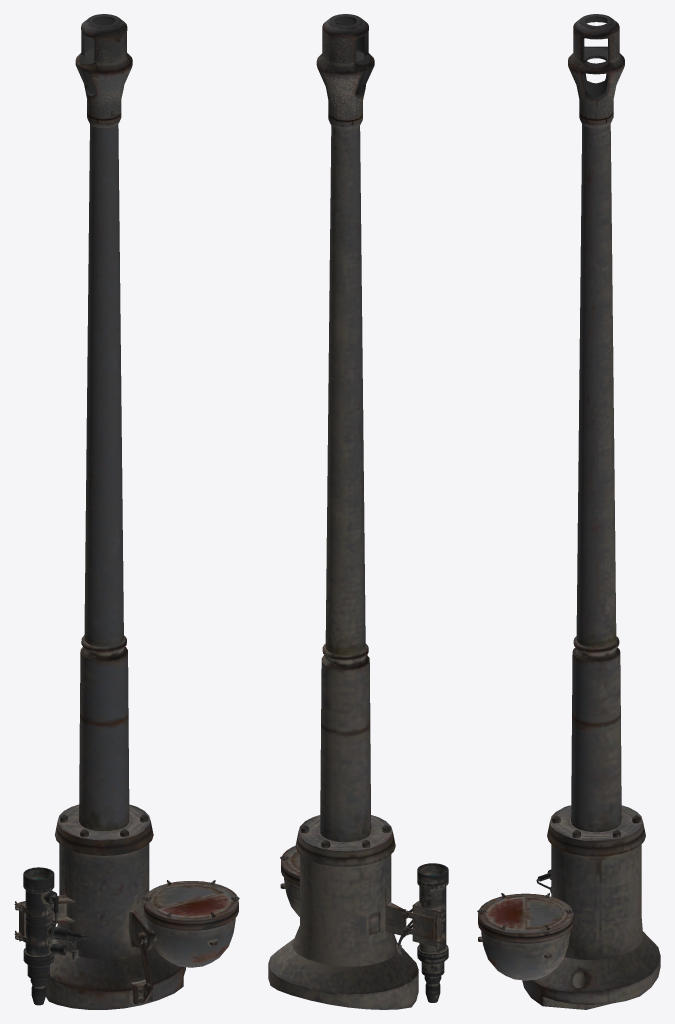
File: Gun_05.glb
3 renders of one model, left to right at view 1: azimuth 30°, elevation 25°; view 2: azimuth 150°, elevation 25°; view 3: azimuth 270°, elevation 25°, orthographic.
Parts seen in each view (by area): view 1: set_0_group_0; view 2: set_0_group_0; view 3: set_0_group_0.
Boxes of the visible parts, x1,y1,x2,y2 form: set_0_group_0: [14, 14, 239, 1009]; set_0_group_0: [268, 14, 448, 1009]; set_0_group_0: [477, 14, 660, 1009].
Size of the model in its own units: 1.01 by 5.03 by 0.8682.
1 material, 1 textured.
